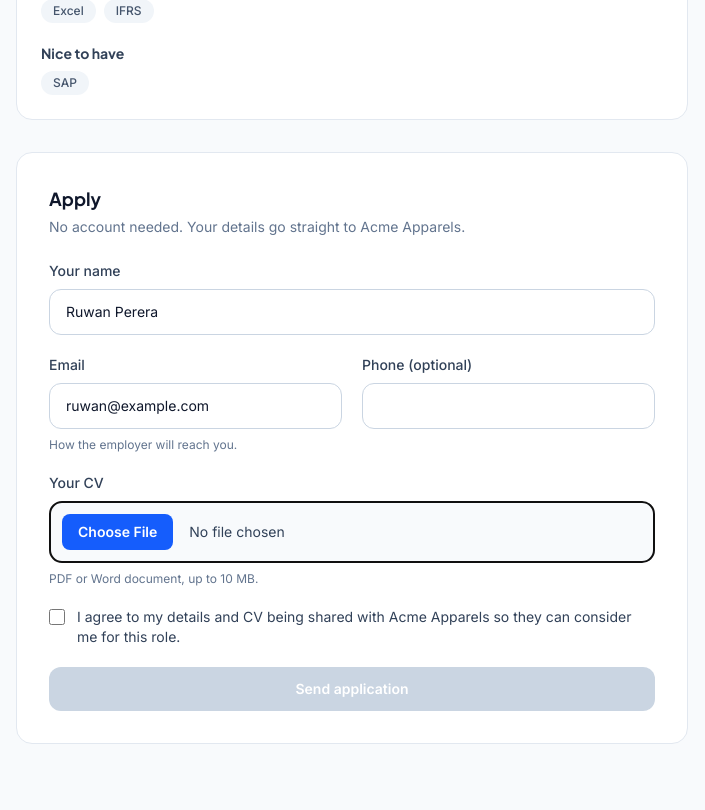
Scenario: ApplyContent › the form › reports a duplicate without losing what was typed
Earlier steps of the test are not shown.
(page scrolled)
Click the checkbox.
click(57, 617)  # box [49,609,65,625]
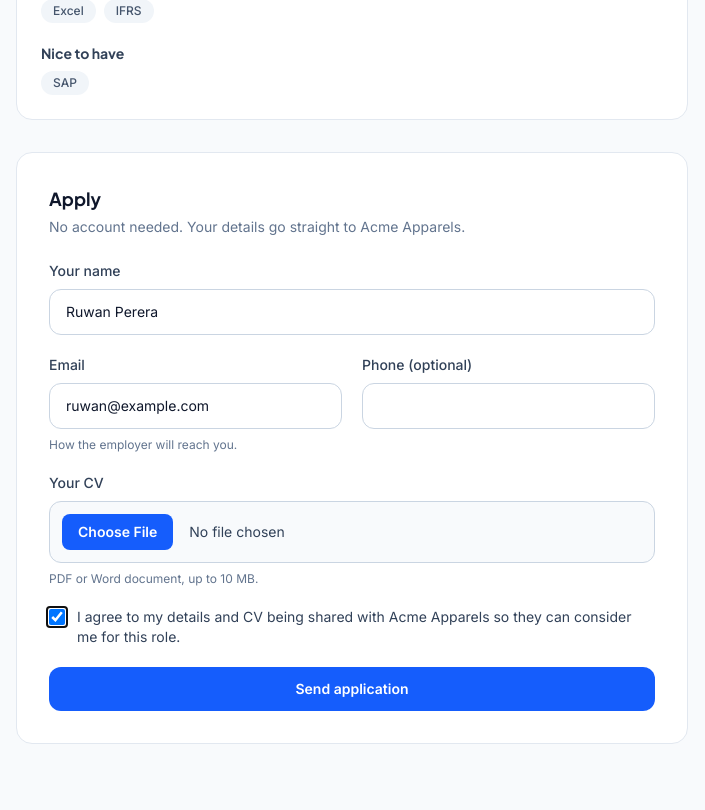
Click the button "Send application".
click(352, 689)  # box [49,667,655,711]
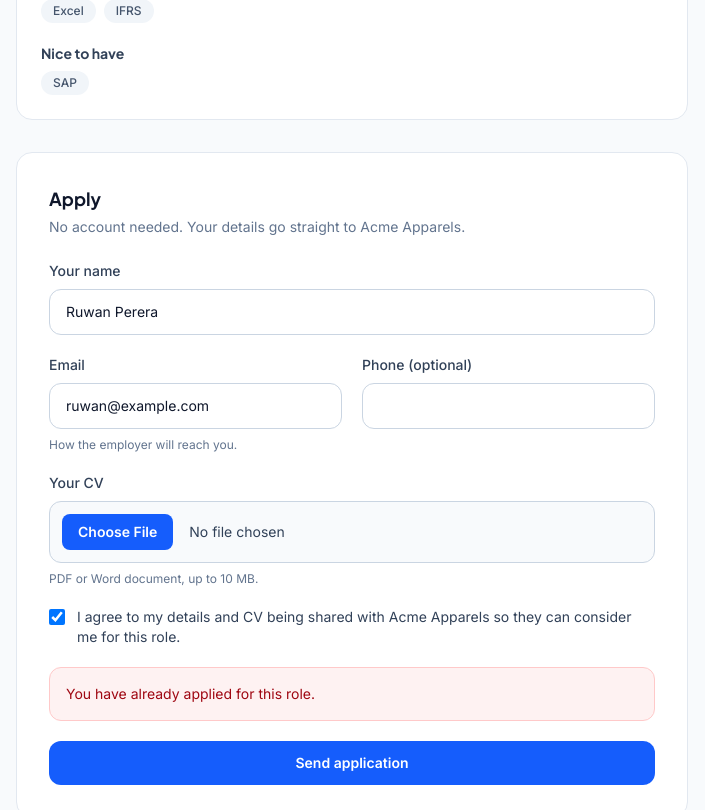
Expected: the field labelled "Your name" holds "Ruwan Perera", [49,289,655,335]
Now the text "You have already applied for this role." is shown, box [49,667,655,721]
